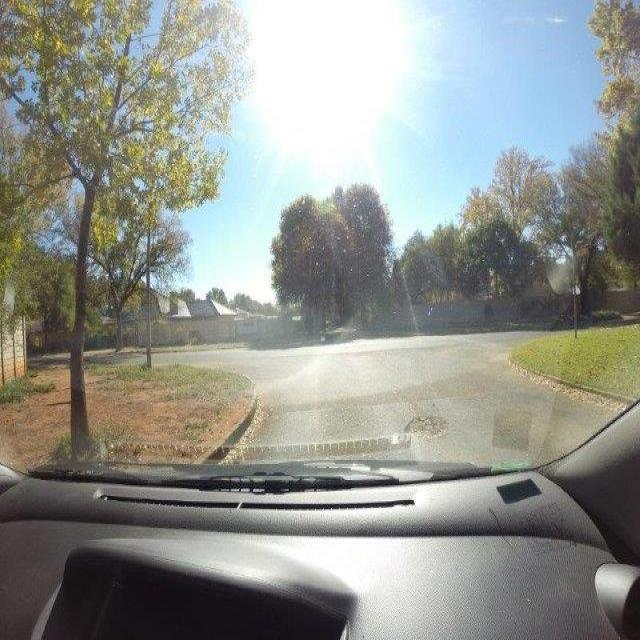lubang: (400, 408, 451, 448), (497, 418, 524, 447)
